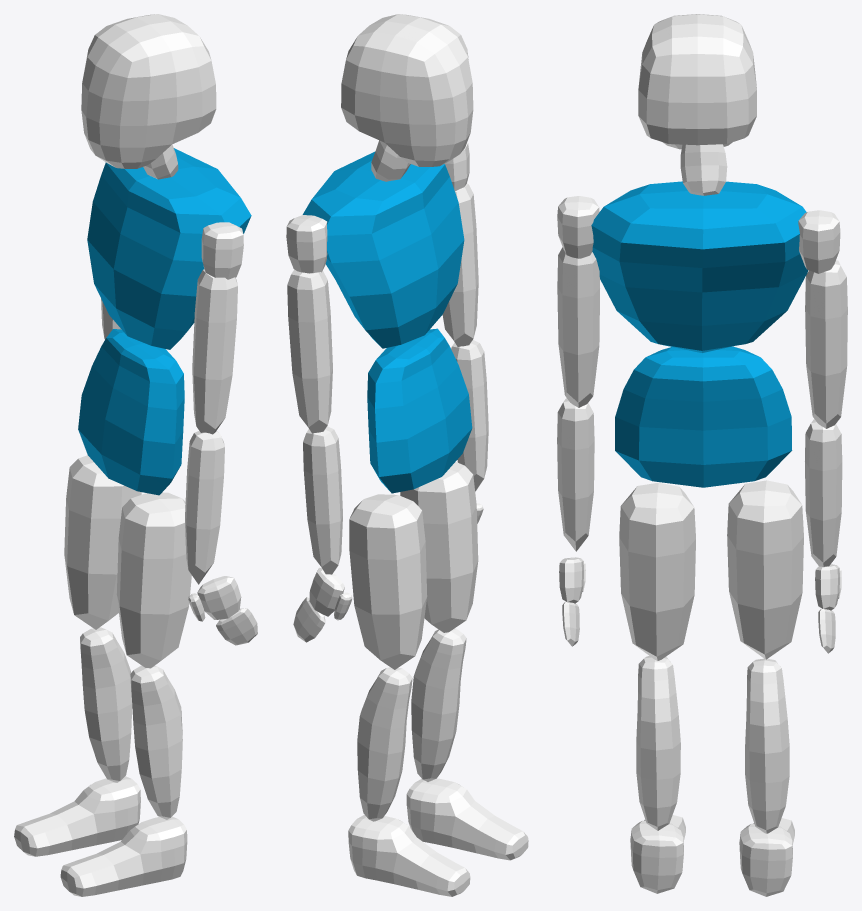
The model's file is Patient.fbx.
3 views of the same model, side by side, from view 1: azimuth 30°, elevation 25°; view 2: azimuth 150°, elevation 25°; view 3: azimuth 270°, elevation 25° (orthographic). The views are drawn at different scales.
Parts seen in each view (by area): view 1: Cube.007; view 2: Cube.007; view 3: Cube.007.
Boxes of the visible parts, bbox=[...] form: Cube.007: bbox=[14, 14, 257, 896]; Cube.007: bbox=[286, 14, 528, 896]; Cube.007: bbox=[557, 14, 847, 896].
Bounding box in the file's own units: 141 × 639 × 194.
